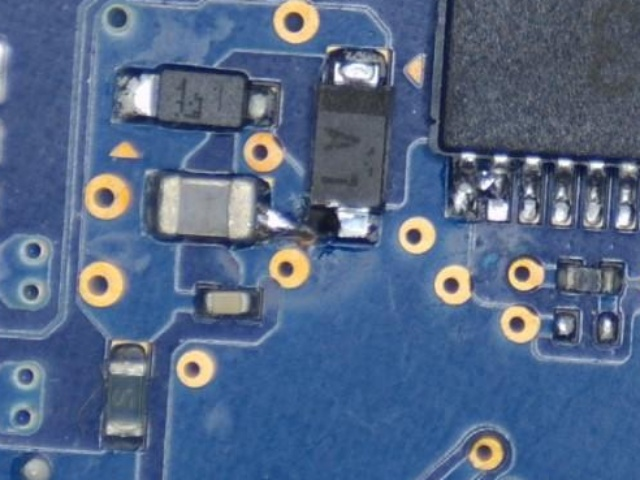pcb_defect: (227, 177, 371, 242), (448, 152, 512, 220)
